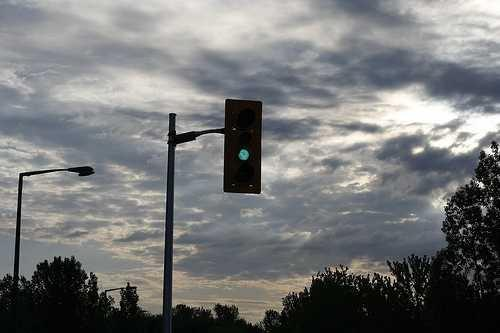green: (227, 98, 264, 195)
